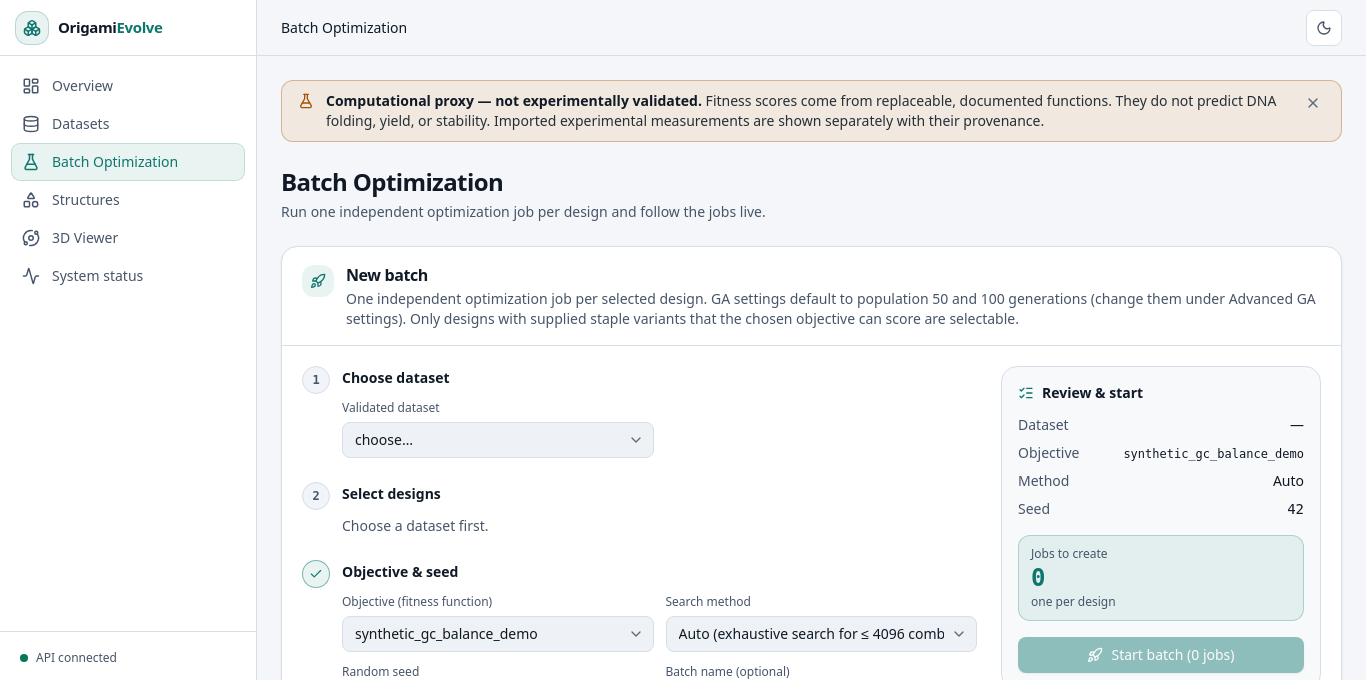
Test: batch creation steps › ticks each step as it is completed and summarises the jobs to create
The width and height of the screenshot is (1366, 680).
Expected: the heading named "Step 1: Choose dataset" is shown, [341, 367, 450, 387]
Expected: the heading named "Step 2: Select designs" is shown, [341, 483, 441, 503]
Step 1. Select "Batch A (2 designs)" in the dropdown labelled "Validated dataset" → (498, 440), box [342, 422, 654, 458]
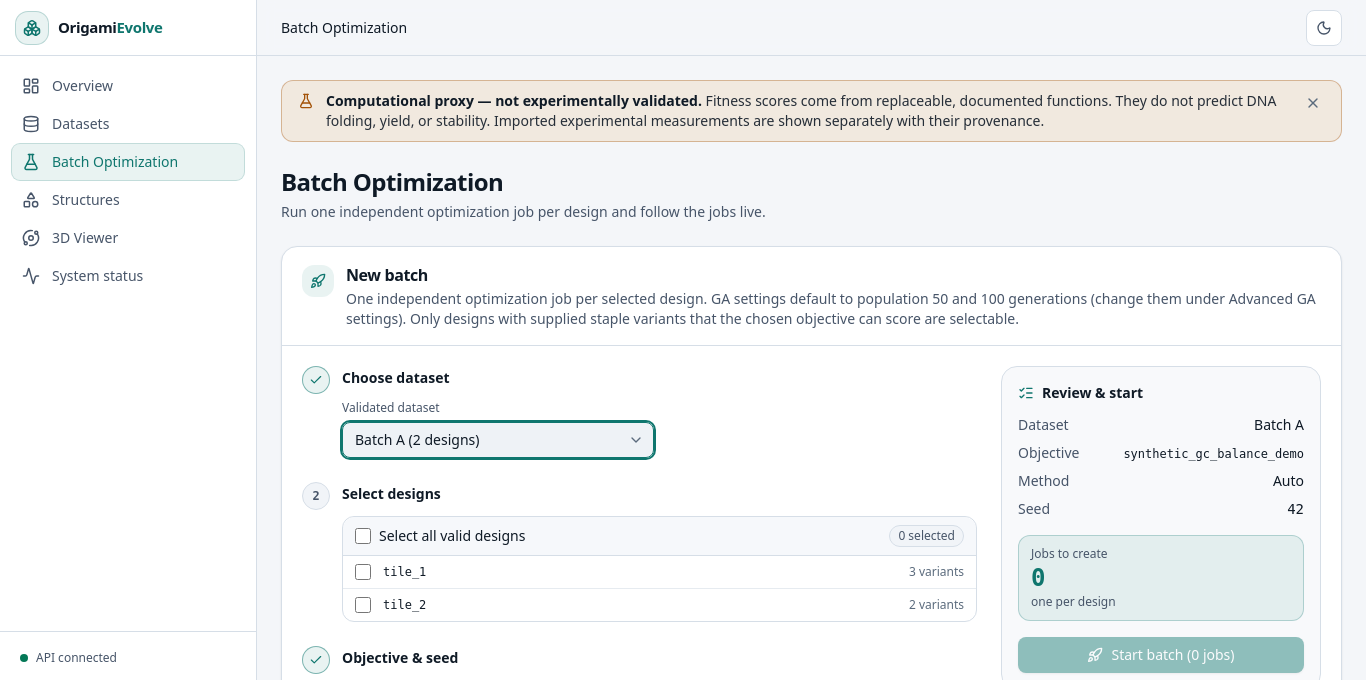
Expected: the text "Batch A" is shown, [1254, 415, 1304, 435]
Expected: the text "3 variants" is shown, [909, 564, 964, 580]
Step 2. Click the checkbox labelled "Select all valid designs" → (363, 536), box [355, 528, 371, 544]
(page scrolled)
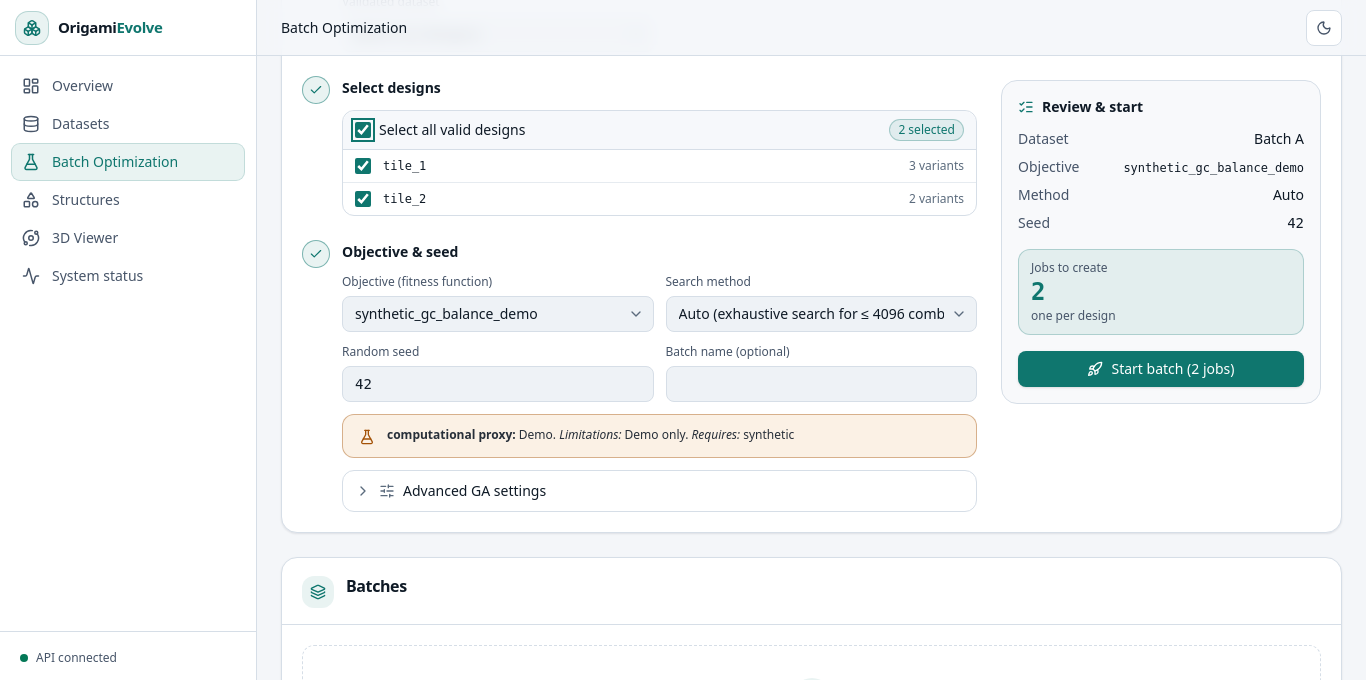
Expected: the element showing "42" is shown, [1287, 213, 1304, 233]
Expected: the text "2" is shown, [1031, 278, 1046, 306]
Expected: the button "Start batch (2 jobs)" is enabled, [1018, 351, 1304, 387]
Step 3. Clear the number field labelled "Random seed" → (498, 384), box [342, 366, 654, 402]
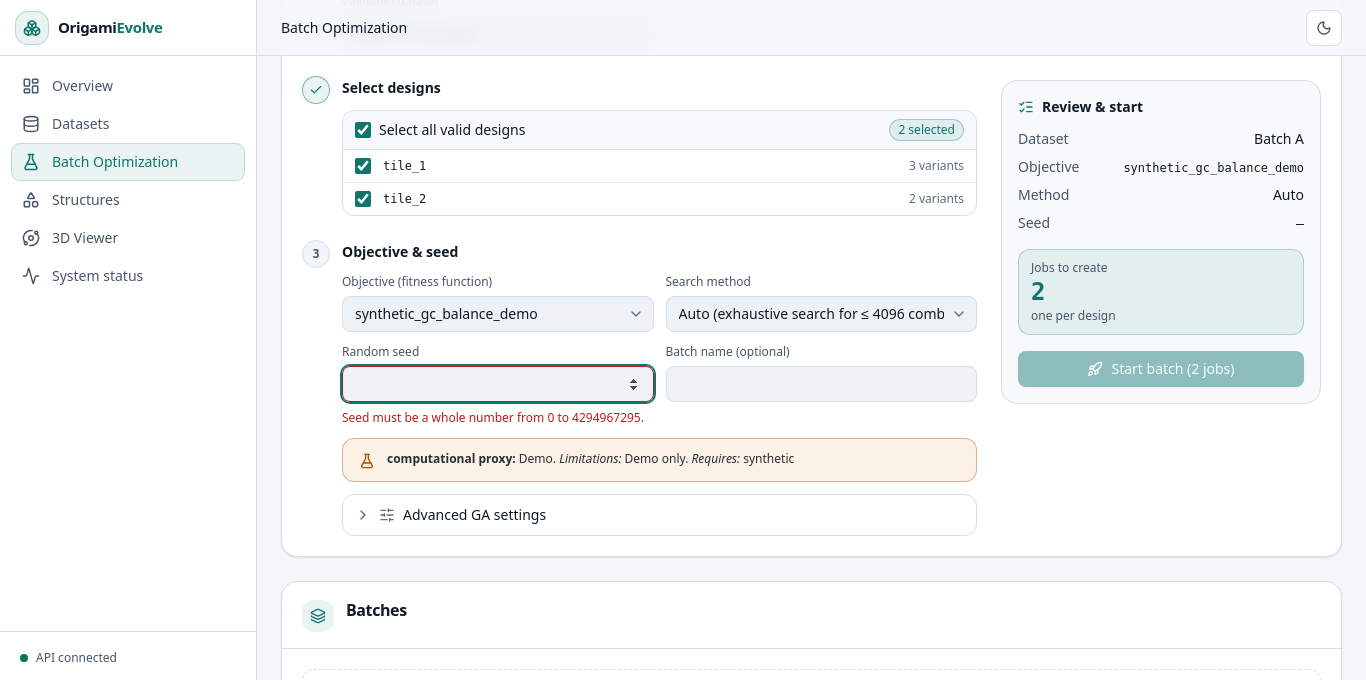
Expected: the element showing "—" is shown, [1296, 213, 1304, 233]
Expected: the button "Start batch (2 jobs)" is disabled, [1018, 351, 1304, 387]
